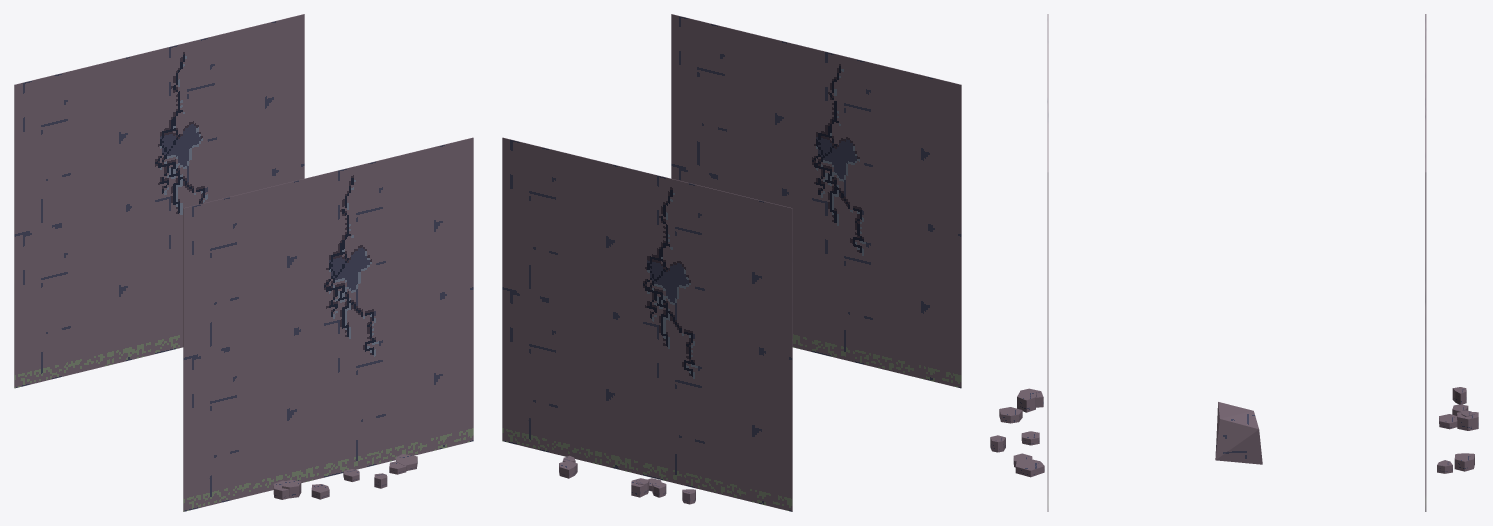
The model's file is cracked_wall_b.glb.
3 views of the same model, side by side, from view 1: azimuth 30°, elevation 25°; view 2: azimuth 150°, elevation 25°; view 3: azimuth 270°, elevation 25° (orthographic). The views are drawn at different scales.
Parts seen in each view (by area): view 1: panel_front, panel_back, debris_front; view 2: panel_back, panel_front, debris_back; view 3: chunk, debris_front, debris_back, panel_back, panel_front.
Part boxes in pixels (x1,y1,x2,y2): panel_front: [183, 137, 473, 511]; panel_back: [14, 14, 304, 388]; debris_front: [273, 454, 417, 499]; panel_back: [502, 137, 792, 511]; panel_front: [671, 14, 961, 388]; debris_back: [559, 455, 695, 504]; chunk: [1215, 402, 1262, 464]; debris_front: [990, 388, 1044, 477]; debris_back: [1437, 387, 1478, 473]; panel_back: [1425, 14, 1426, 511]; panel_front: [1047, 14, 1048, 511].
Size of the model in its own units: 2 by 2.14 by 2.61.
Materials: 1 (1 with a texture image).
